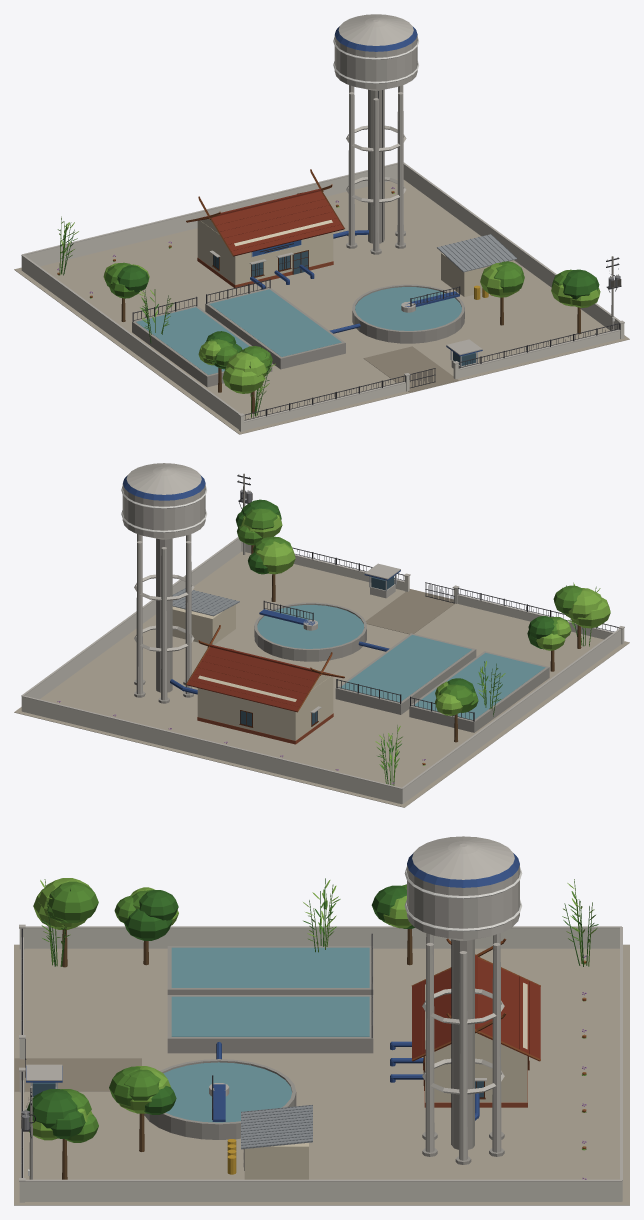
File: water_works.glb
The picture shows the model from 3 angles, top to bottom: view 1: azimuth 30°, elevation 25°; view 2: azimuth 150°, elevation 25°; view 3: azimuth 270°, elevation 25°; orthographic projection. The views are drawn at different scales.
Parts seen in each view (by area): view 1: body, windows; view 2: body; view 3: body.
Boxes of the visible parts, left/top/right/bottom form: body: left=14, top=14, right=629, bottom=434; windows: left=213, top=251, right=475, bottom=365; body: left=14, top=463, right=629, bottom=807; body: left=14, top=836, right=629, bottom=1205.
Bounding box in the file's own units: 47.9 × 26.04 × 47.9.
